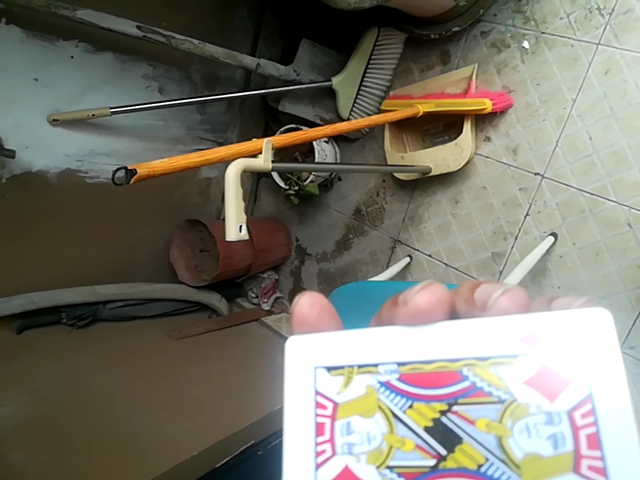fk j: (281, 306, 639, 477)
